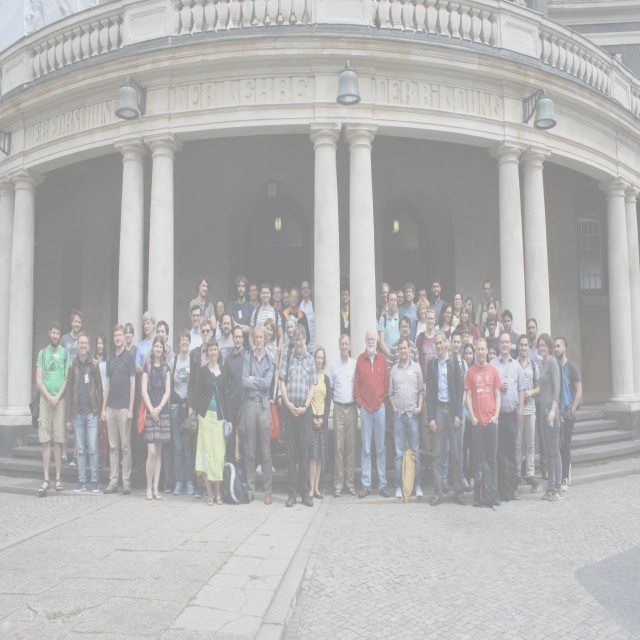pessoa: (425, 328, 468, 508), (28, 320, 72, 494), (280, 321, 318, 508), (488, 327, 527, 503), (64, 330, 106, 493), (463, 336, 503, 507), (534, 332, 574, 502), (352, 328, 391, 502), (240, 322, 276, 506), (188, 318, 224, 499), (196, 337, 234, 507), (100, 322, 136, 496), (136, 334, 172, 502), (54, 309, 92, 468), (388, 336, 424, 498), (517, 316, 551, 482), (441, 329, 472, 494), (329, 333, 358, 497), (553, 335, 583, 492), (168, 328, 196, 496), (514, 334, 540, 486), (222, 324, 250, 464), (255, 318, 280, 474), (308, 344, 332, 502), (416, 306, 438, 469), (91, 332, 110, 468), (248, 282, 284, 353), (124, 322, 140, 469), (227, 275, 256, 352), (388, 314, 420, 382), (462, 343, 476, 490), (280, 288, 311, 352), (277, 314, 298, 407), (378, 290, 403, 362), (143, 320, 177, 370), (375, 281, 400, 349), (474, 279, 502, 339), (215, 311, 244, 368), (134, 310, 158, 376), (189, 274, 217, 330), (298, 280, 316, 356), (497, 308, 521, 359), (398, 282, 418, 341), (426, 276, 449, 326), (410, 298, 436, 342), (454, 302, 478, 346), (455, 302, 478, 346), (339, 284, 352, 358), (480, 300, 504, 340), (434, 302, 456, 344), (188, 304, 204, 356), (458, 328, 478, 365), (485, 314, 500, 363), (213, 298, 227, 341), (451, 290, 464, 330), (246, 282, 262, 311), (272, 282, 284, 318), (486, 342, 499, 363), (282, 290, 290, 310), (396, 289, 404, 309), (417, 286, 427, 302)
